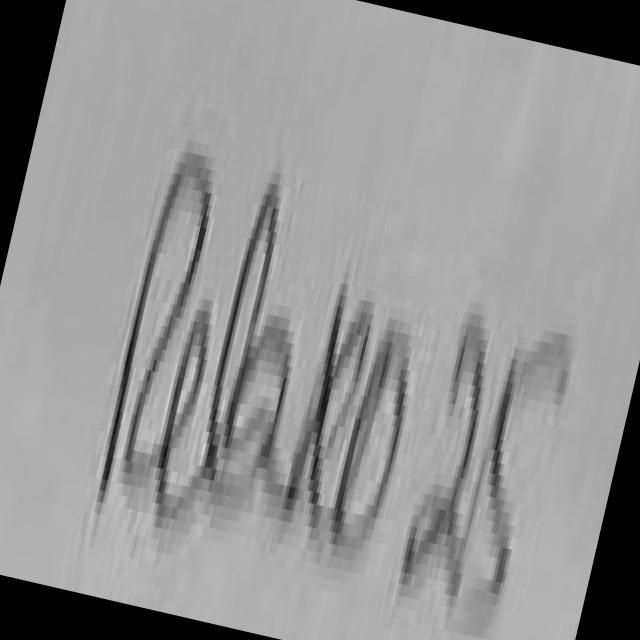2: (405, 314, 487, 595)
5: (457, 322, 573, 626)
R: (100, 152, 210, 502)
a: (226, 315, 293, 493)
e: (157, 310, 210, 527)
l: (171, 183, 280, 523)
o: (333, 330, 409, 545)
x: (288, 284, 372, 527)
